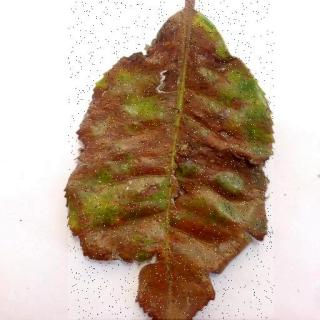Algal Leaf: (69, 2, 275, 320)
